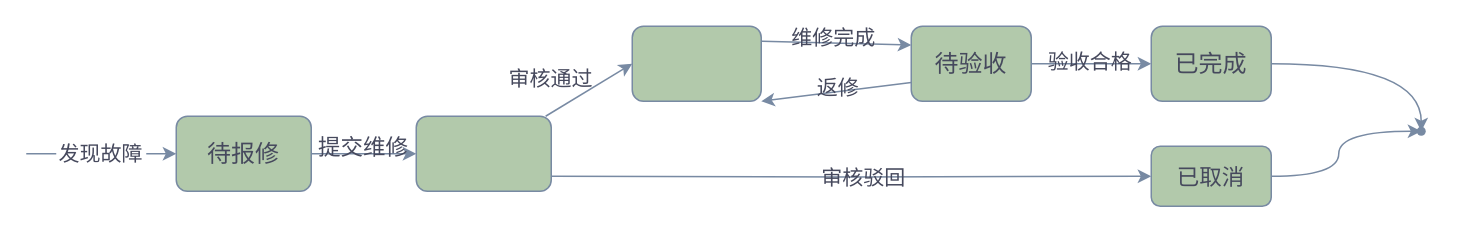
Image size: 1463x234. Some labels were removed from this diagram. Here are the shapes that lost their labels. From the top down, the centre of each, then its label:
the point at 696,63: 维修中
the point at 483,153: 待审核
